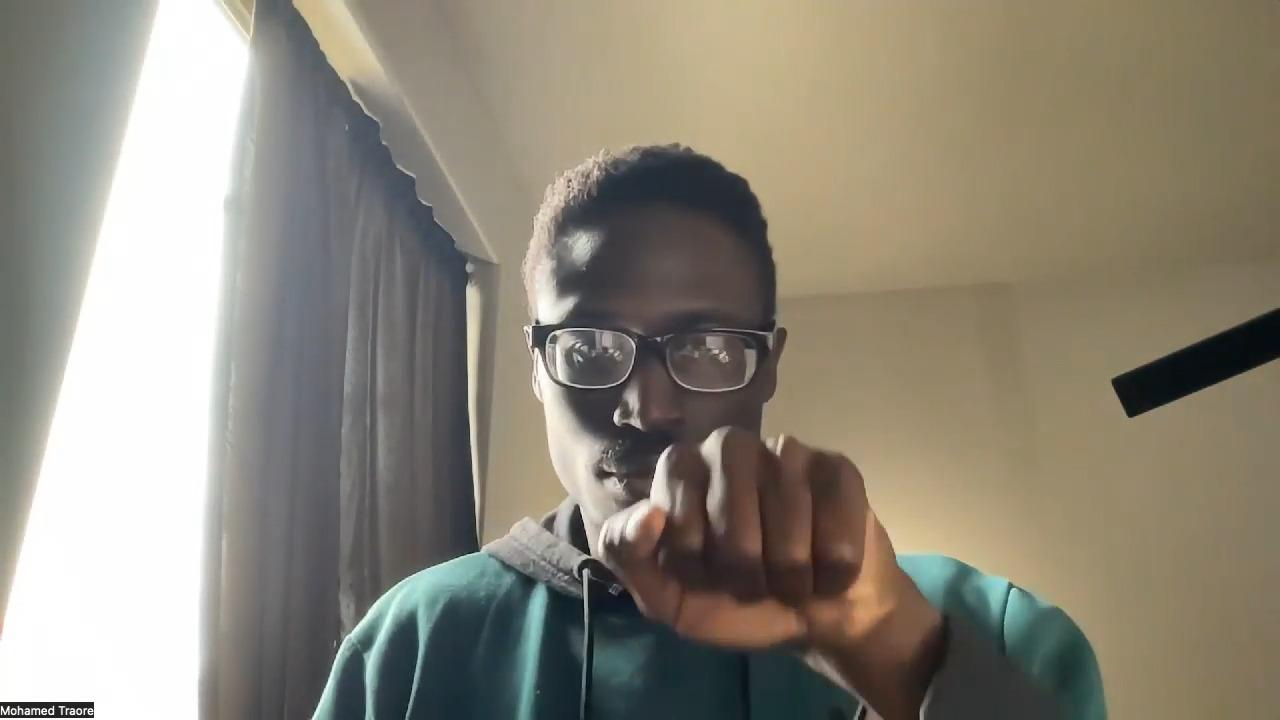Rock: (595, 430, 906, 643)
